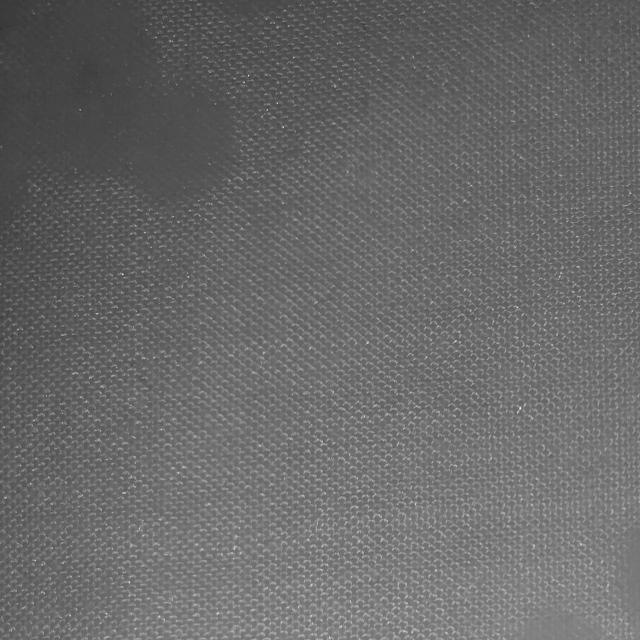stain: (0, 1, 244, 242)
